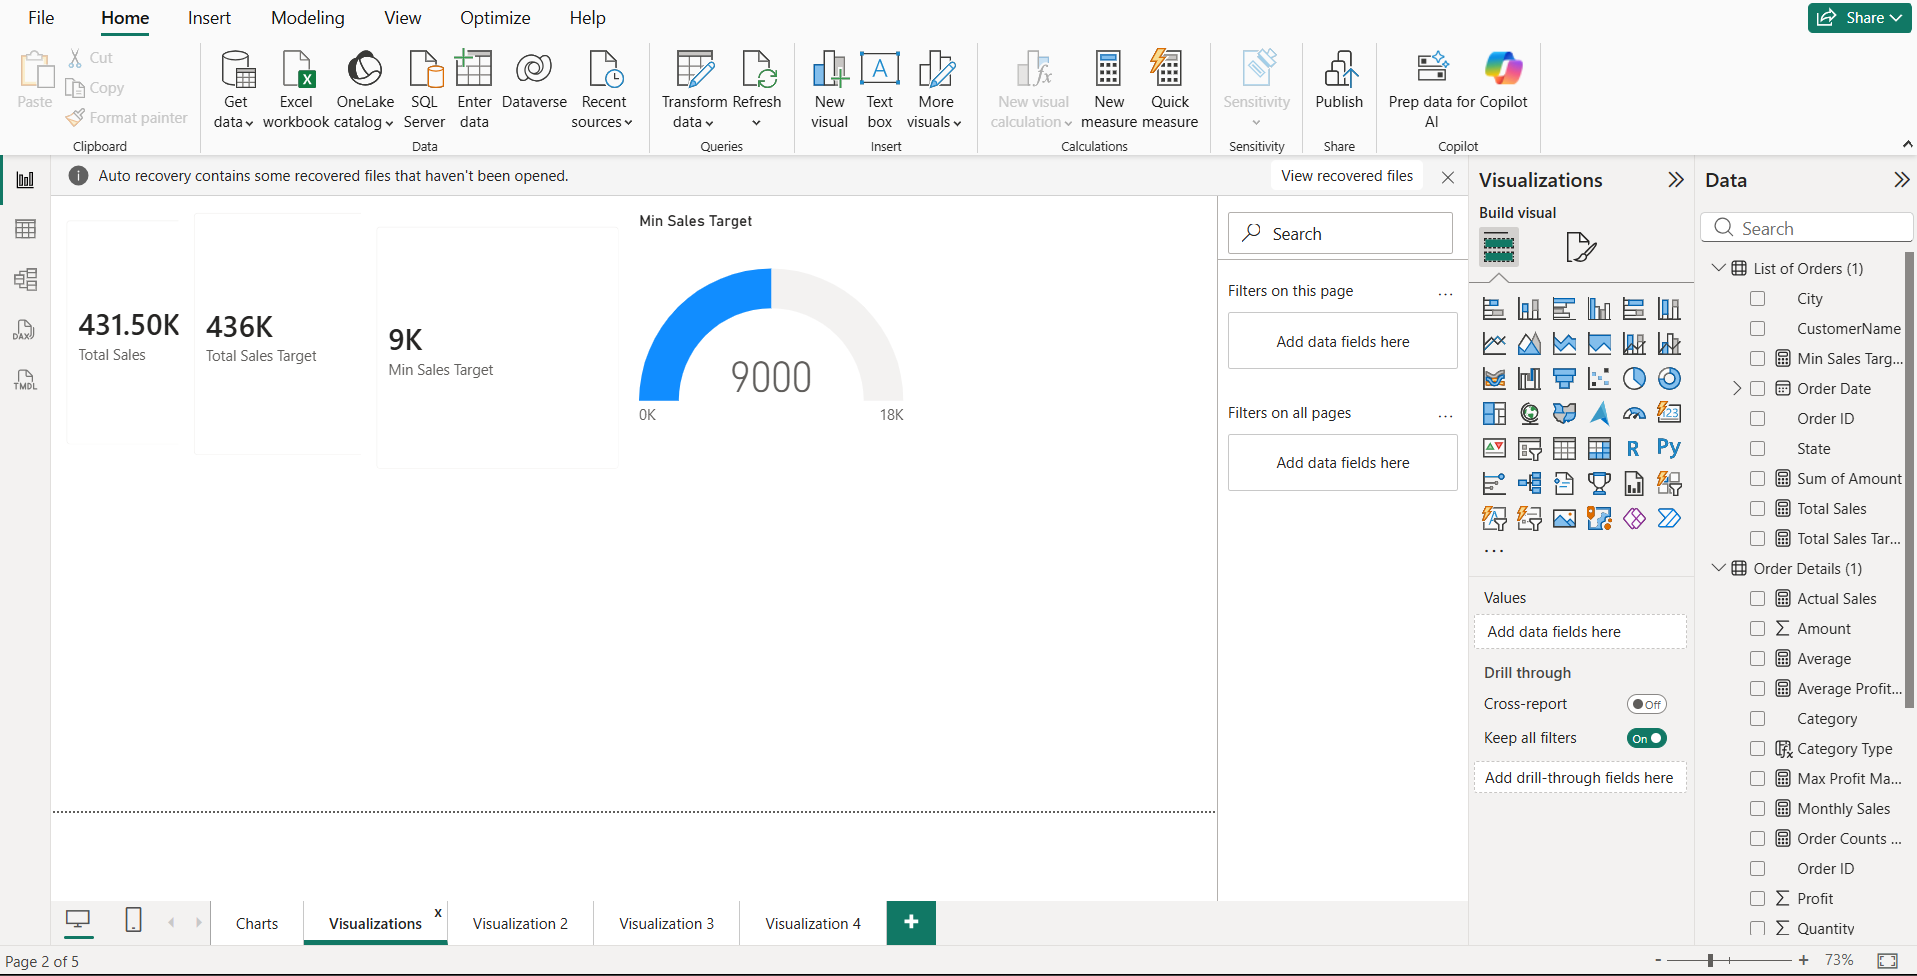

The dashboard page shown, as its layout file describes it:
{"tool":"powerbi","page":{"name":"Visualizations","canvas":[1280,720],"ordinal":1},"visuals":[{"type":"cardVisual","fields":{"Data":["List of Orders (1).Measure"]},"box":[0,55,279.2,280.7],"z":0},{"type":"cardVisual","fields":{"Data":["List of Orders (1).Measure"]},"box":[139.6,46,300,300],"z":1000},{"type":"cardVisual","fields":{"Data":["List of Orders (1).Measure"]},"box":[340.1,62.4,300,300],"z":2000},{"type":"gauge","fields":{"Y":["List of Orders (1).Measure"]},"box":[640.2,62.4,300,283.7],"z":3000}]}

Visuals, with their boxes on the page's 1280x720 design canvas (x1, y1, x2, y2). These are canvas units, not pixel positions in the 1917x976 screenshot, which may show the page scaled, cropped or inside an application window:
cardVisual - List of Orders (1).Measure: crop(0, 55, 279, 336)
cardVisual - List of Orders (1).Measure: crop(140, 46, 440, 346)
cardVisual - List of Orders (1).Measure: crop(340, 62, 640, 362)
gauge - List of Orders (1).Measure: crop(640, 62, 940, 346)
